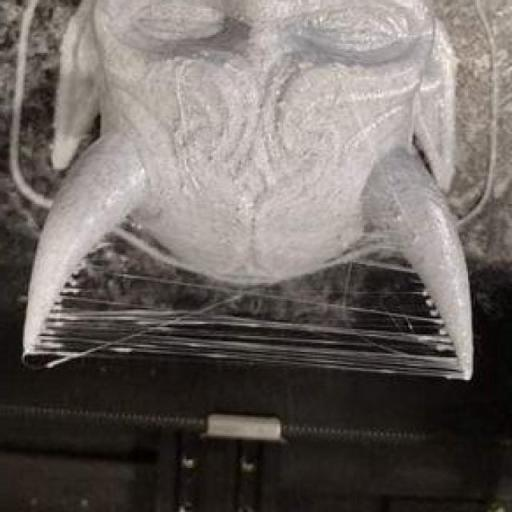stringing: (42, 304, 468, 386)
